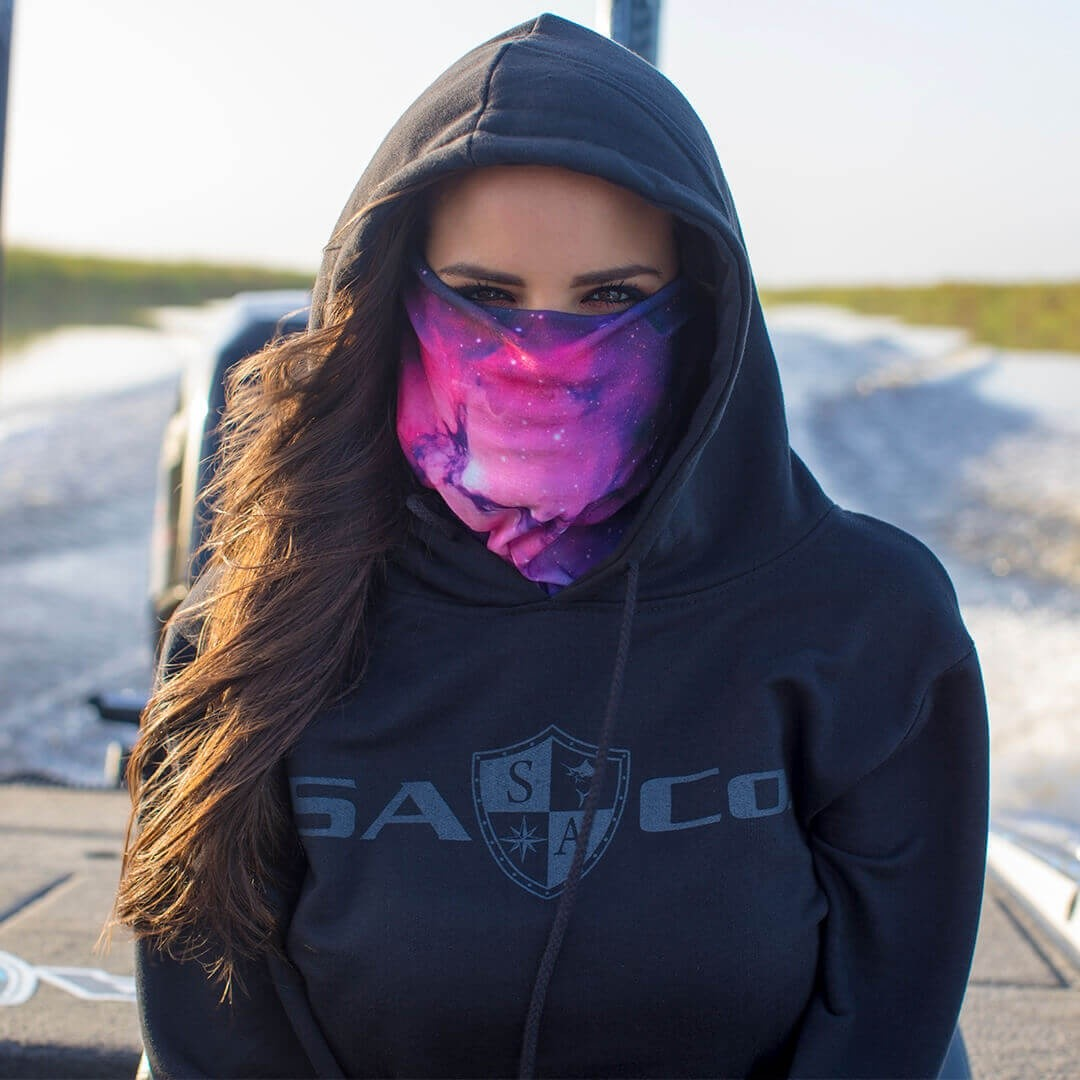face_with_mask: (389, 61, 708, 528)
